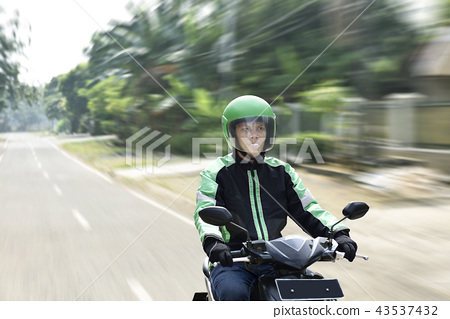helmet: (222, 97, 279, 127)
